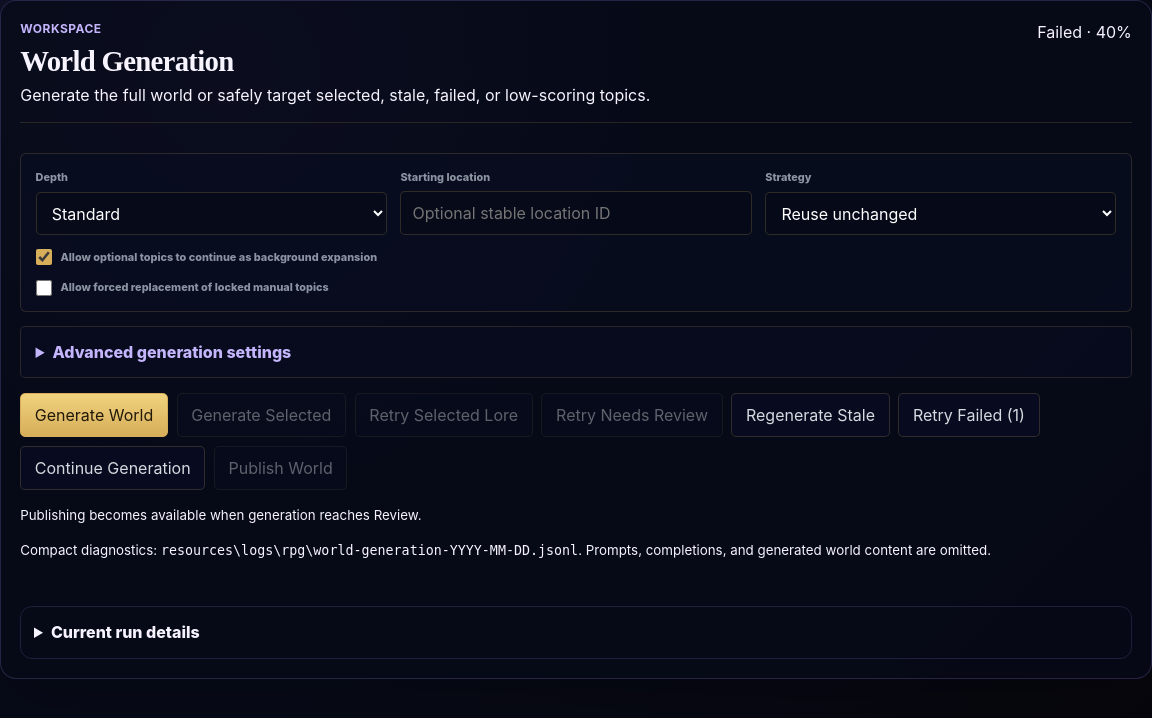
it: RpgWorldGenerationPanel failed-topic retry guards › retries the exact failed run instead of rebuilding a failed scope from UI defaults
Click the button "Retry Failed (1)" at (969, 415), box [898,393,1040,437]
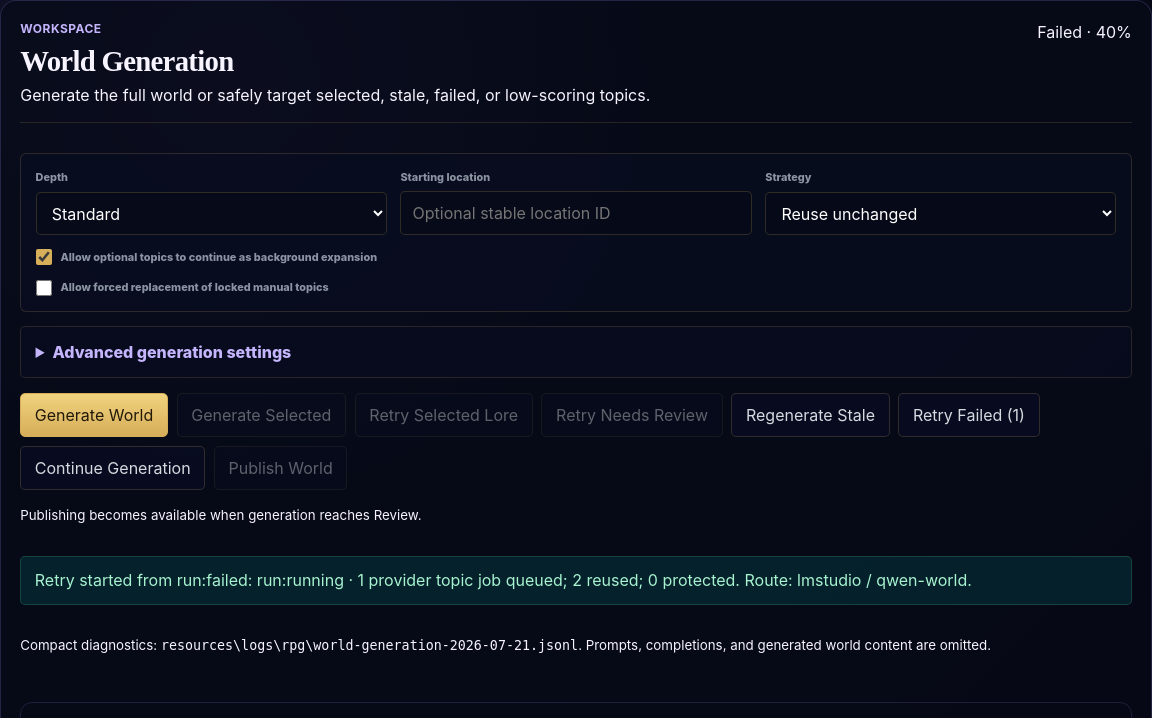
expect the text "Route: lmstudio / qwen-world" is shown: met, box [35,570,972,590]
expect the text "resources\\logs\\rpg\\world-generation-2026-07-21.jsonl" is shown: met, box [161,638,578,653]
